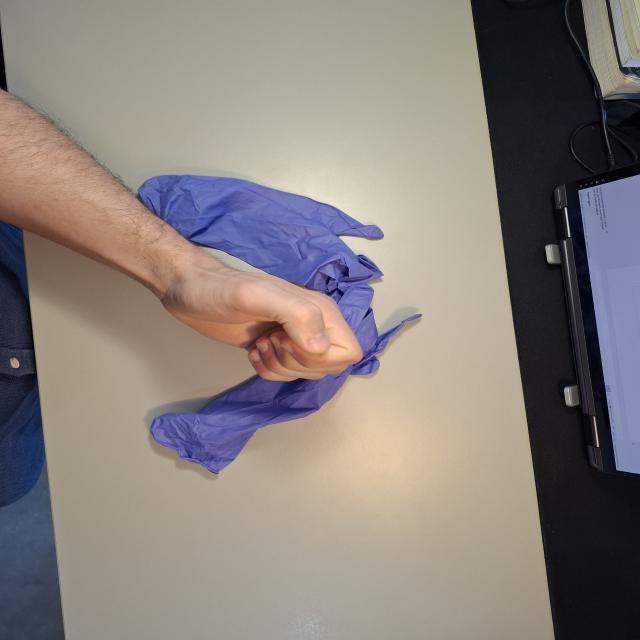glove_off: (150, 256, 367, 382)
